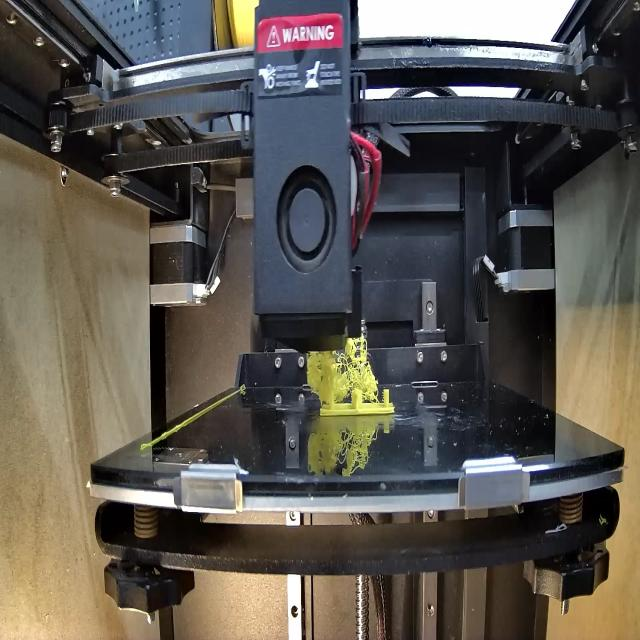spaghetti: (302, 340, 375, 399)
